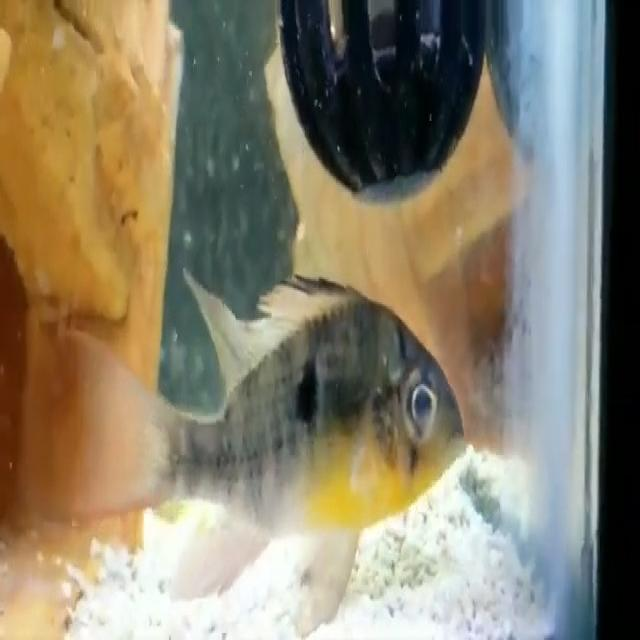fish: (32, 264, 472, 630)
